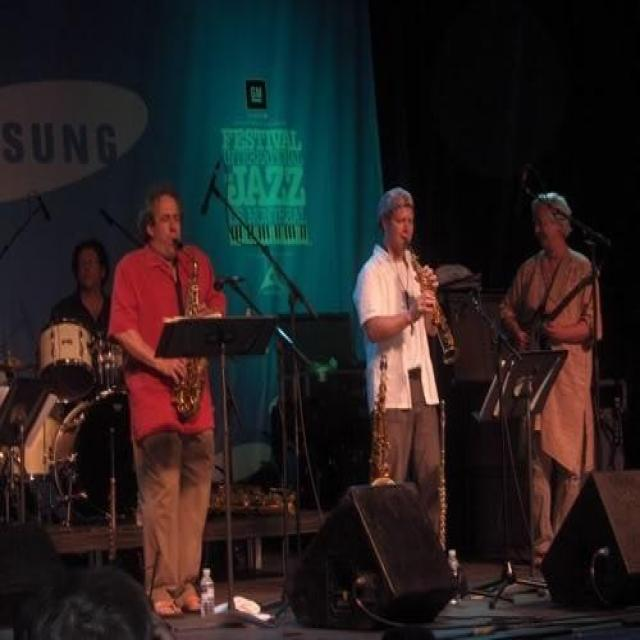clarinet: (404, 240, 464, 365)
drums: (0, 310, 153, 520)
saxophone: (170, 235, 212, 422), (368, 352, 396, 491)
